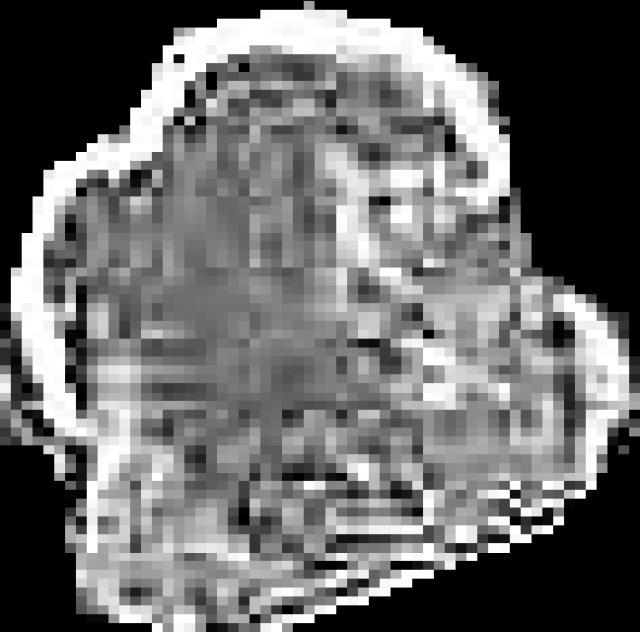tumor_good_chance: (0, 1, 640, 632)
